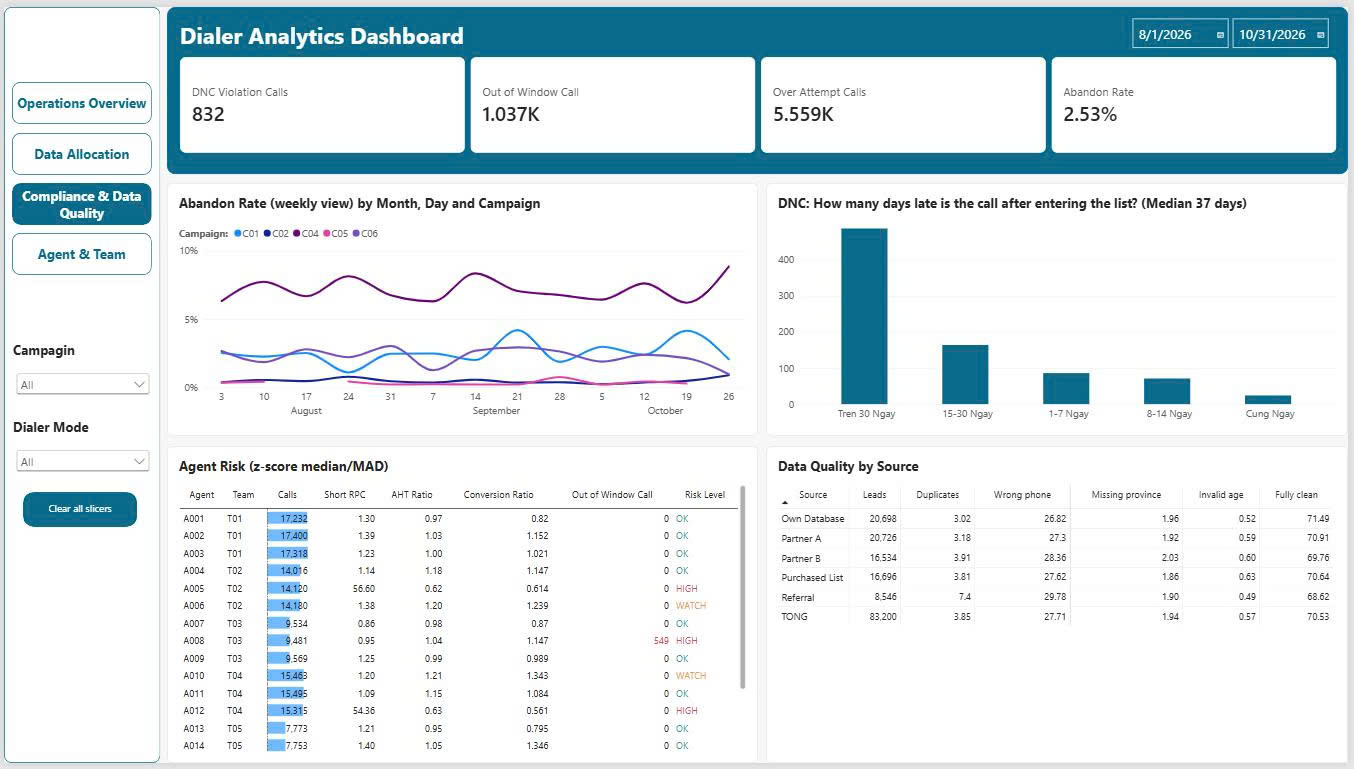

The dashboard page shown, as its layout file describes it:
{"tool":"powerbi","page":{"name":"Compliance & Data Quality","canvas":[1920,1080],"ordinal":2},"visuals":[{"type":"shape","box":[0,0,223.4,1080],"z":0},{"type":"shape","box":[12,107.7,199.5,59.9],"z":1000},{"type":"shape","box":[12,179.6,199.5,59.9],"z":2000},{"type":"shape","box":[12,251.4,199.5,59.9],"z":3000},{"type":"shape","box":[12,323.2,199.5,59.9],"z":4000},{"type":"shape","box":[232.8,0,1687.2,239],"z":5000},{"type":"cardVisual","fields":{"Data":["_Measures.DNC Violation Calls","_Measures.Out of Window Call","_Measures.Over Attempt Calls","_Measures.Abandon Rate"]},"box":[251.5,71.9,1652.9,137.5],"z":6000},{"type":"textbox","title":"Dialer Analytics Dashboard","box":[251.4,17.3,437.6,42.6],"z":7000},{"type":"slicer","fields":{"Values":["dw dim_date.full_date"]},"box":[1604.4,10.8,300.1,57.2],"z":8000},{"type":"lineChart","title":"Abandon Rate (weekly view) by Month, Day and Campaign","fields":{"Category":["dw dim_date.week_start_date.Variation.Date Hierarchy.Month","dw dim_date.week_start_date.Variation.Date Hierarchy.Day"],"Series":["dw dim_campaign.campaign_id"],"Y":["_Measures.Abandon Rate (weekly view)"]},"box":[232.8,251.5,843.6,360.9],"z":9000},{"type":"clusteredColumnChart","title":"DNC: How many days late is the call after entering the list? (Median 37 days)","fields":{"Category":["dw pbi_dnc_buckets.bucket"],"Y":["Sum(dw pbi_dnc_buckets.violating_calls)"]},"box":[1088.9,251.5,831.1,360.9],"z":10000},{"type":"tableEx","title":"Agent Risk (z-score median/MAD)","fields":{"Values":["dw vw_agent_risk.agent_id","dw vw_agent_risk.team_id","Sum(dw vw_agent_risk.calls)","Sum(dw vw_agent_risk.short_rpc_pct)","Sum(dw vw_agent_risk.aht_ratio)","Sum(dw vw_agent_risk.conv_ratio)","Sum(dw vw_agent_risk.oow_calls)","dw vw_agent_risk.risk_level"]},"box":[232.8,626.5,843.6,453.1],"z":11000},{"type":"pivotTable","title":"Data Quality by Source","fields":{"Rows":["dw pbi_dq_by_source.source"],"Values":["Sum(dw pbi_dq_by_source.leads)","Sum(dw pbi_dq_by_source.dup_pct)","Sum(dw pbi_dq_by_source.bad_phone_format_pct)","Sum(dw pbi_dq_by_source.missing_province_pct)","Sum(dw pbi_dq_by_source.invalid_age_pct)","Sum(dw pbi_dq_by_source.fully_clean_pct)"]},"box":[1088.9,626.5,831.1,453.1],"z":12000},{"type":"slicer","title":"Campagin","fields":{"Values":["dw dim_campaign.campaign_id"]},"box":[12.5,476.5,200,90.6],"z":13000},{"type":"slicer","title":"Dialer Mode","fields":{"Values":["dw dim_campaign.dialer_mode"]},"box":[12.5,587.4,200,89],"z":14000},{"type":"actionButton","box":[27.2,692.4,163.3,49.9],"z":15000}]}

Visuals, with their boxes on the page's 1920x1080 design canvas (x1, y1, x2, y2). These are canvas units, not pixel positions in the 1354x769 screenshot, which may show the page scaled, cropped or inside an application window:
shape: (0,0,223,1080)
shape: (12,108,212,168)
shape: (12,180,212,240)
shape: (12,251,212,311)
shape: (12,323,212,383)
shape: (233,0,1920,239)
cardVisual - _Measures.DNC Violation Calls x _Measures.Out of Window Call: (252,72,1904,209)
"Dialer Analytics Dashboard" textbox: (251,17,689,60)
slicer - dw dim_date.full_date: (1604,11,1904,68)
"Abandon Rate (weekly view) by Month, Day and Campaign" lineChart: (233,252,1076,612)
"DNC: How many days late is the call after entering the list? (Median 37 days)" clusteredColumnChart: (1089,252,1920,612)
"Agent Risk (z-score median/MAD)" tableEx: (233,626,1076,1080)
"Data Quality by Source" pivotTable: (1089,626,1920,1080)
"Campagin" slicer: (12,476,212,567)
"Dialer Mode" slicer: (12,587,212,676)
actionButton: (27,692,190,742)
